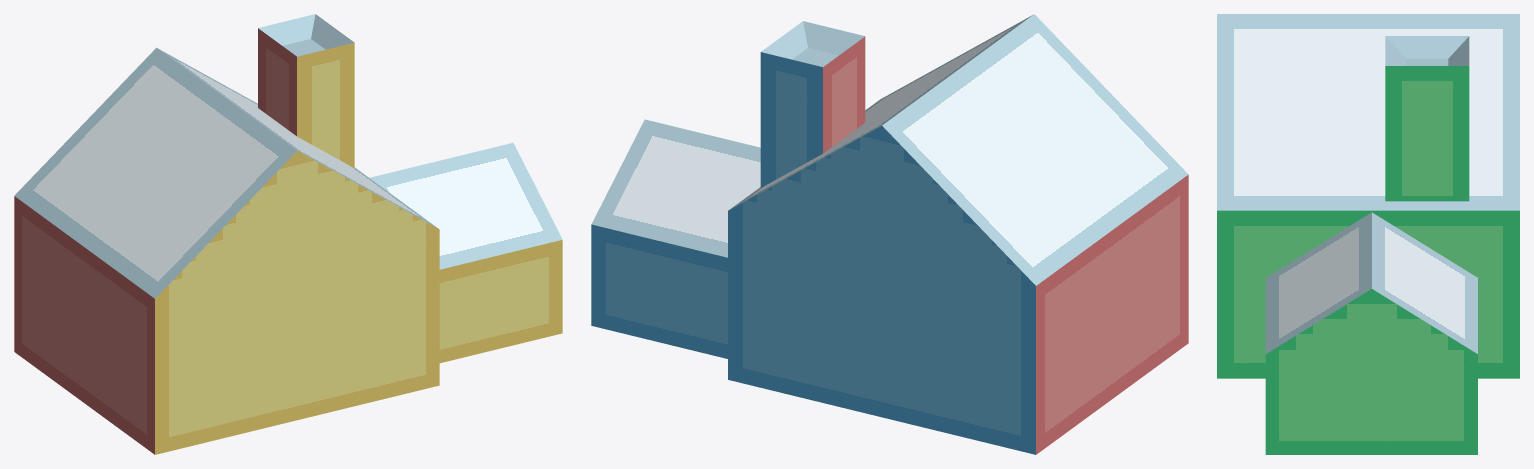
File: city_house.gltf
The picture shows the model from 3 angles, left to right: view 1: azimuth 30°, elevation 25°; view 2: azimuth 150°, elevation 25°; view 3: azimuth 270°, elevation 25°; orthographic projection. The views are drawn at different scales.
Parts seen in each view (by area): view 1: cuboid; view 2: cuboid; view 3: cuboid.
Boxes of the visible parts, bbox=[...] form: cuboid: bbox=[14, 14, 562, 454]; cuboid: bbox=[591, 14, 1188, 454]; cuboid: bbox=[1217, 14, 1519, 454].
Bounding box in the file's own units: 1.98 × 1.27 × 1.12.
1 material, 1 textured.
